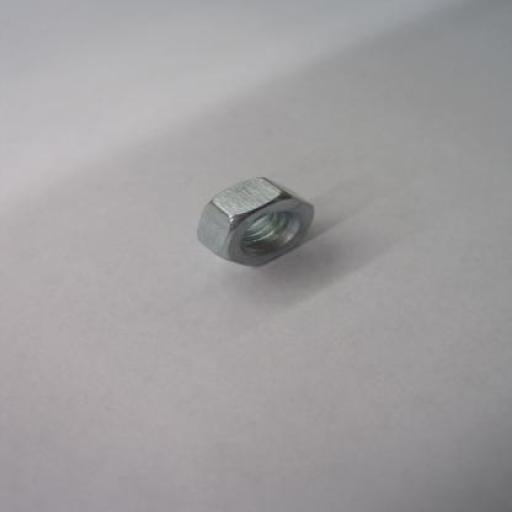Nut: (197, 176, 315, 268)
